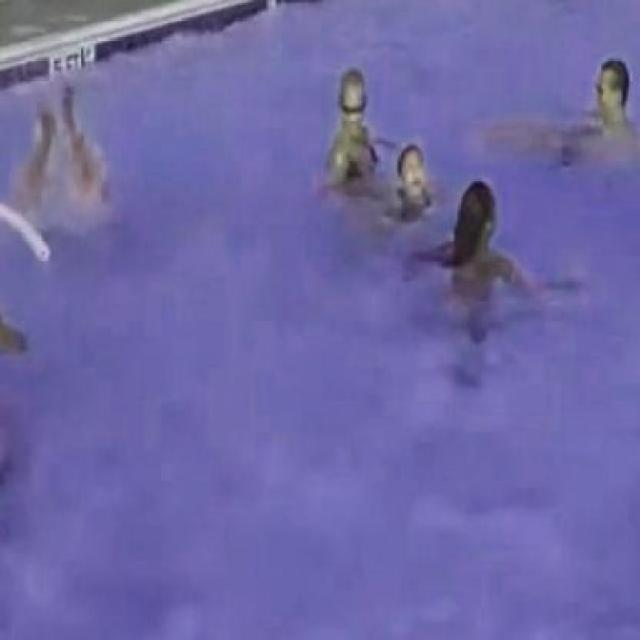drowning: (3, 97, 159, 248), (436, 182, 570, 340), (506, 63, 640, 186), (285, 63, 390, 192), (382, 142, 446, 230)
